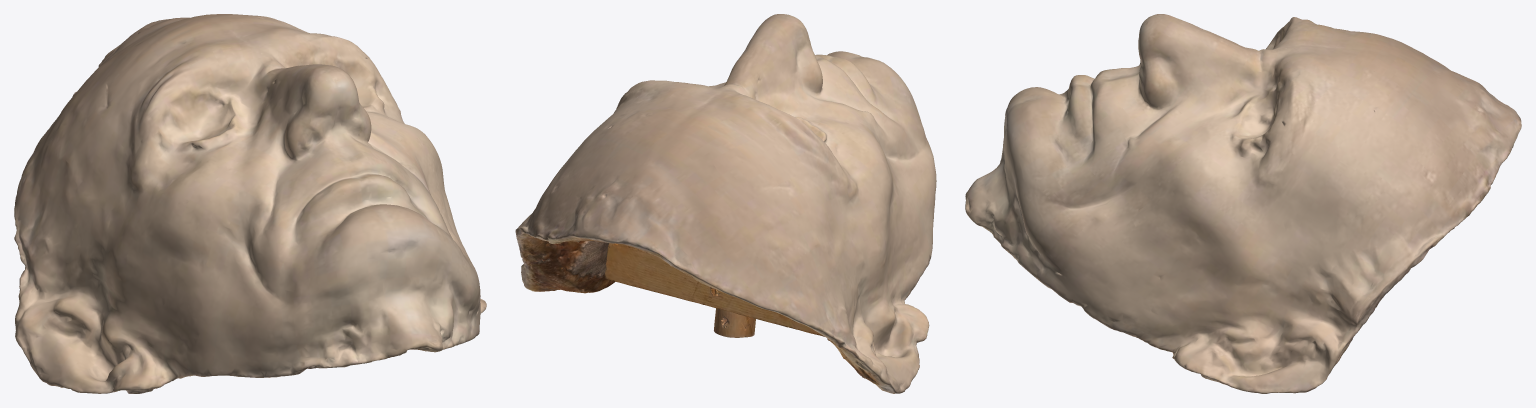
3 renders of one model, left to right at view 1: azimuth 30°, elevation 25°; view 2: azimuth 150°, elevation 25°; view 3: azimuth 270°, elevation 25°, orthographic. The views are drawn at different scales.
Size of the model in its own units: 203 by 147 by 247.
1 material, 1 textured.
